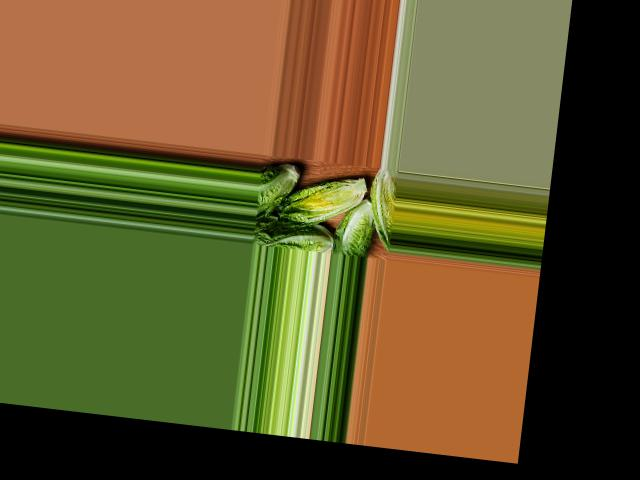lettuce: (362, 168, 399, 250)
